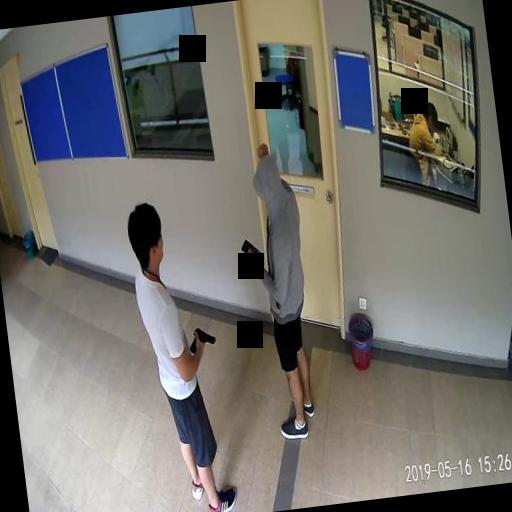Handgun: (188, 326, 216, 354)
